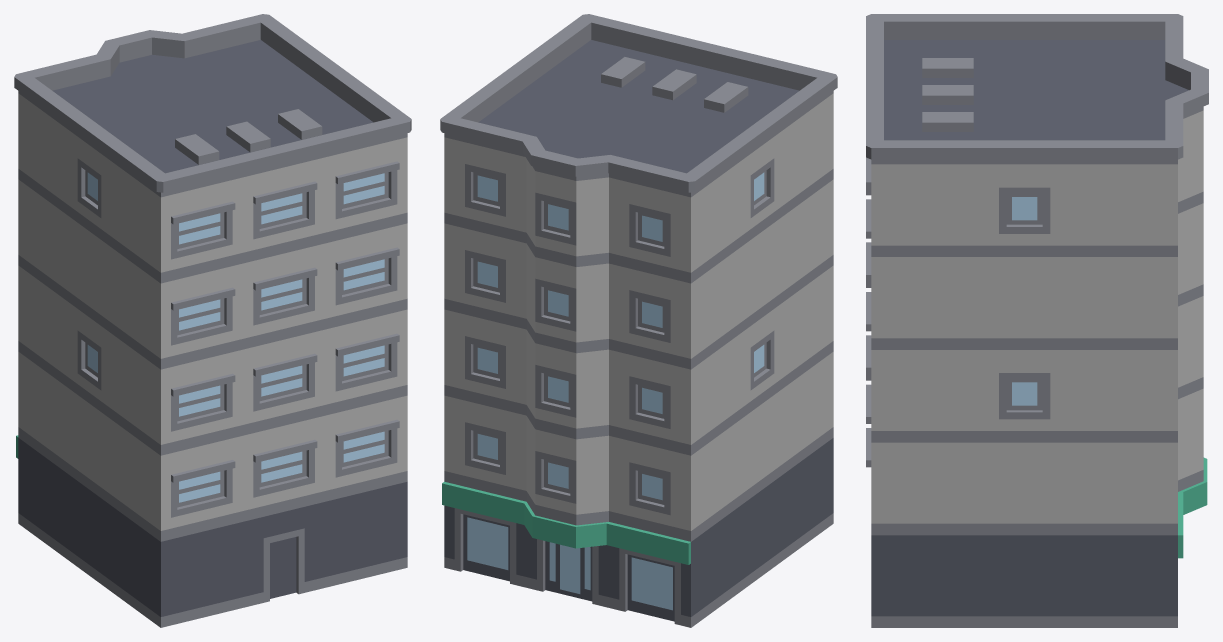
The model's file is Large Building-3IhrYZp6tP.glb.
3 renders of one model, left to right at view 1: azimuth 30°, elevation 25°; view 2: azimuth 150°, elevation 25°; view 3: azimuth 270°, elevation 25°, orthographic. The views are drawn at different scales.
Visible parts, largest first — view 1: large_buildingE; view 2: large_buildingE; view 3: large_buildingE.
Boxes of the visible parts, x1,y1,x2,y2 form: large_buildingE: [14, 14, 411, 627]; large_buildingE: [440, 14, 837, 627]; large_buildingE: [866, 14, 1208, 627].
Size of the model in its own units: 1.24 by 2.08 by 1.34.
